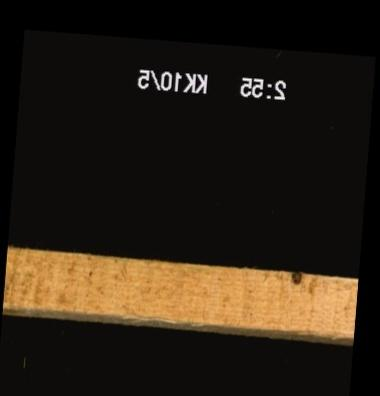edge_knot: (289, 270, 301, 284)
